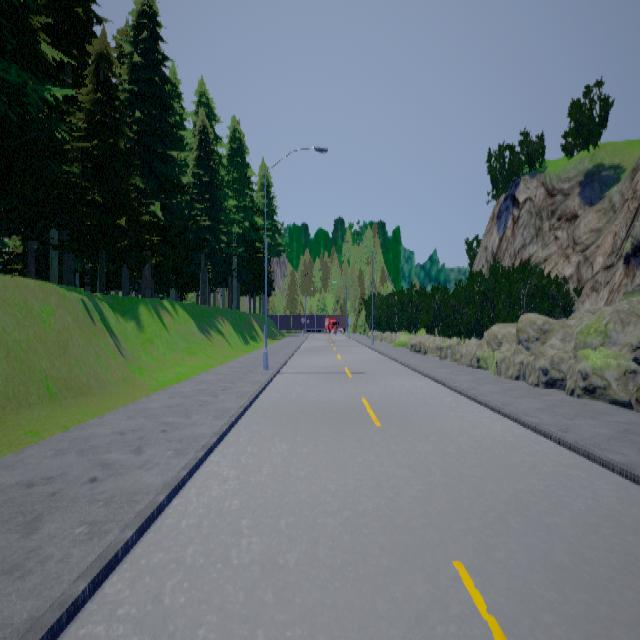vehicle: (325, 315, 339, 332)
